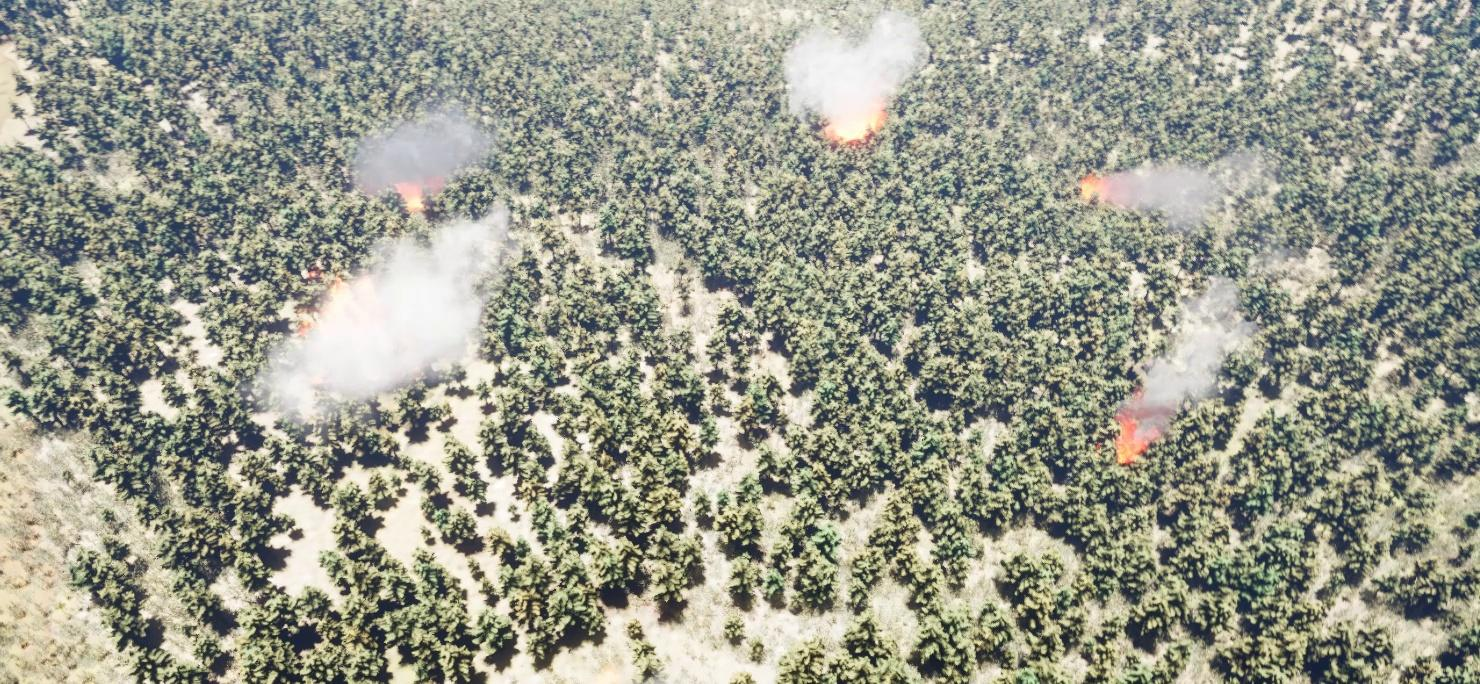fire: (1109, 414, 1153, 465), (386, 181, 440, 222), (824, 111, 883, 147), (1076, 175, 1114, 206)
smoke: (255, 217, 507, 414), (1112, 275, 1253, 432), (781, 11, 930, 124), (353, 114, 489, 214), (1122, 147, 1268, 234)
